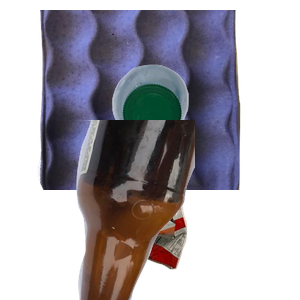glass: (60, 120, 300, 300)
paper: (35, 10, 268, 190)
plastic: (110, 62, 300, 198)
trash: (92, 174, 272, 300)
